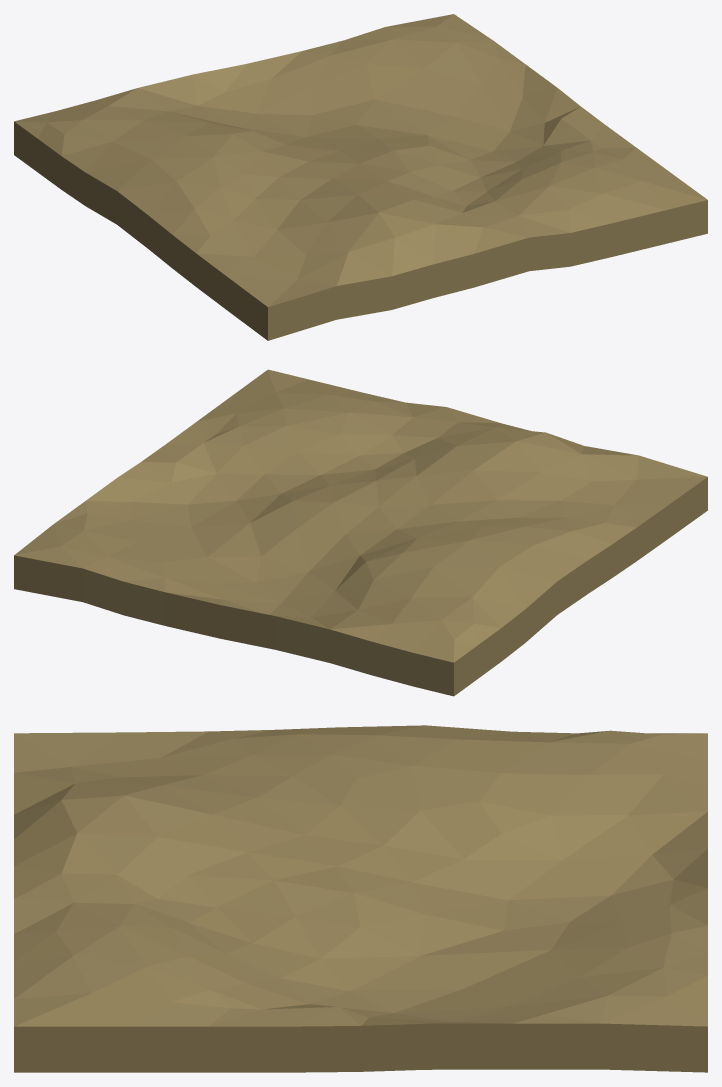
The model's file is Terrain_1.fbx.
3 views of the same model, one above another, from view 1: azimuth 30°, elevation 25°; view 2: azimuth 150°, elevation 25°; view 3: azimuth 270°, elevation 25° (orthographic). The views are drawn at different scales.
Visible parts, largest first — view 1: Plane; view 2: Plane; view 3: Plane.
Part boxes in pixels (bbox=[...]): Plane: bbox=[14, 14, 707, 340]; Plane: bbox=[14, 369, 707, 696]; Plane: bbox=[14, 725, 707, 1072].
Size of the model in its own units: 1624 by 219 by 1624.
